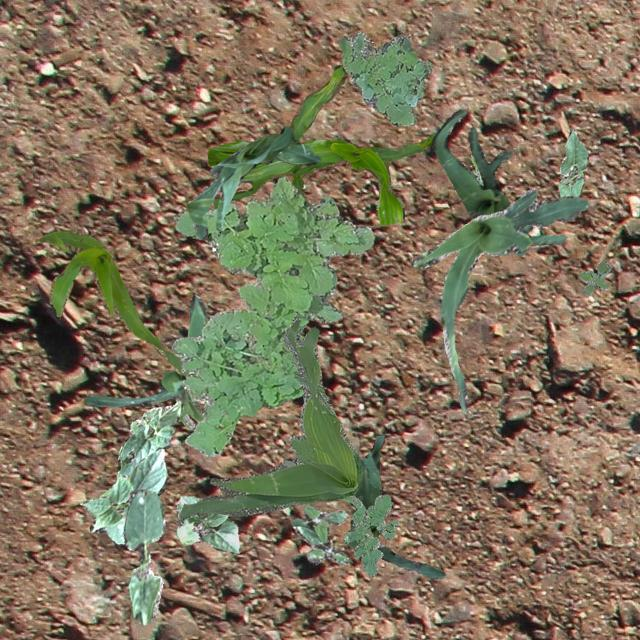crop: (410, 188, 586, 412), (206, 64, 434, 224), (36, 230, 186, 376), (430, 108, 566, 244), (84, 292, 205, 428), (185, 125, 318, 238), (346, 433, 444, 578), (80, 448, 168, 542), (122, 488, 164, 626), (116, 401, 182, 478), (176, 494, 240, 554), (558, 128, 588, 196)
weed: (170, 176, 372, 457), (178, 314, 362, 520), (336, 30, 432, 126), (340, 494, 398, 576), (290, 503, 348, 562), (578, 258, 610, 294), (471, 154, 483, 186)
